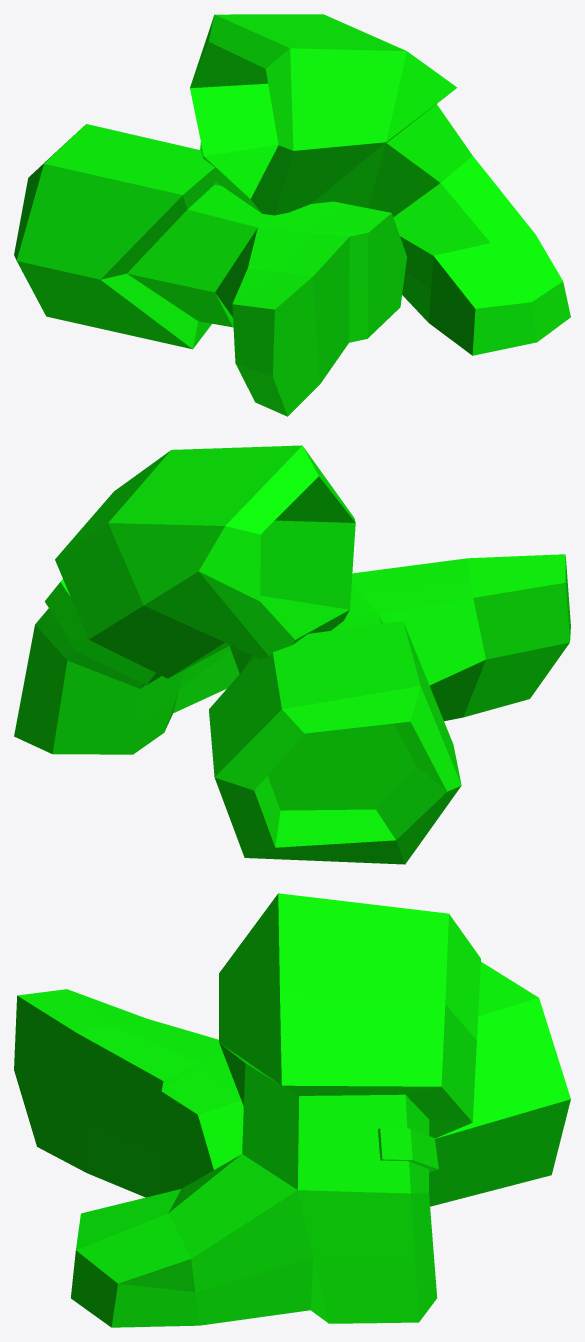
The model's file is SM_Armor_Shoes_C_Placed_Fantasy.fbx.
The picture shows the model from 3 angles, top to bottom: view 1: azimuth 30°, elevation 25°; view 2: azimuth 150°, elevation 25°; view 3: azimuth 270°, elevation 25°; orthographic projection. The views are drawn at different scales.
Parts seen in each view (by area): view 1: armor-shoes-c-placed-fantasy; view 2: armor-shoes-c-placed-fantasy; view 3: armor-shoes-c-placed-fantasy.
Part boxes in pixels (x1,y1,x2,y2): armor-shoes-c-placed-fantasy: (14,14,570,416); armor-shoes-c-placed-fantasy: (14,445,570,864); armor-shoes-c-placed-fantasy: (14,893,570,1327).
Bounding box in the file's own units: 0.402 × 0.2636 × 0.3952.
